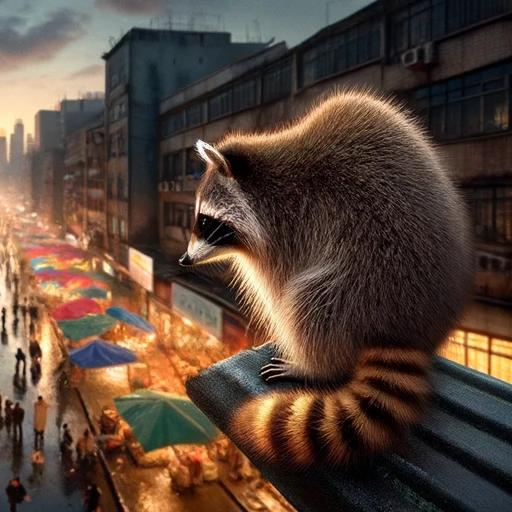raccoon: (168, 72, 491, 490)
